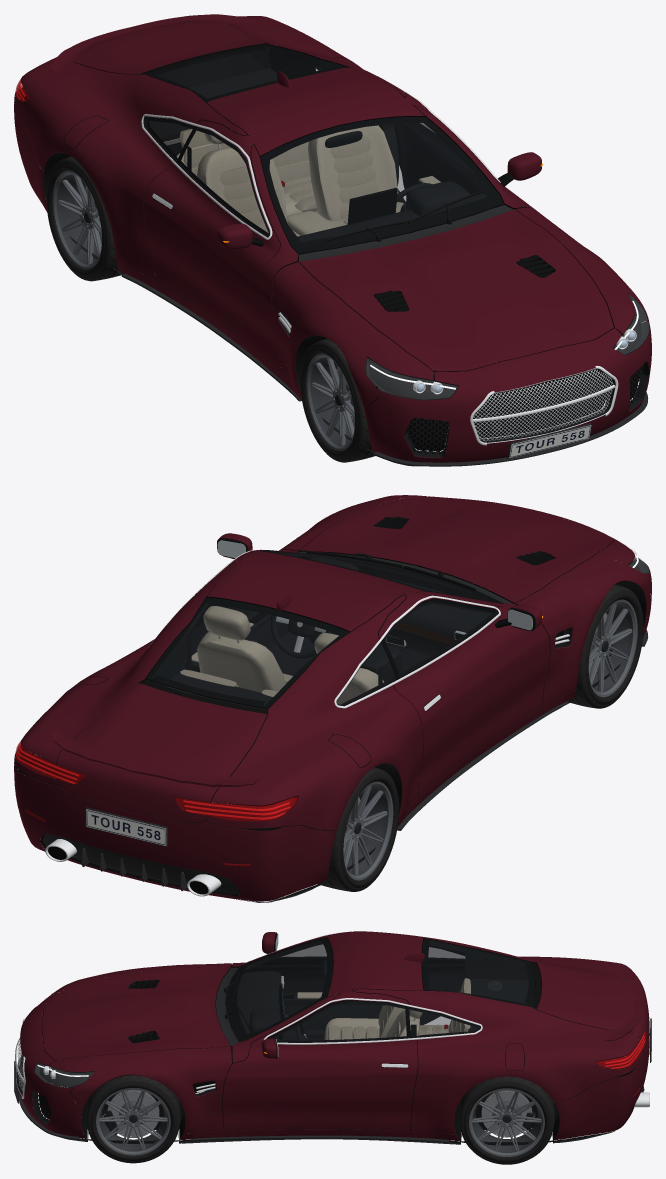
The model's file is grand-tourer.glb.
3 renders of one model, top to bottom at view 1: azimuth 30°, elevation 25°; view 2: azimuth 150°, elevation 25°; view 3: azimuth 270°, elevation 25°, orthographic. The views are drawn at different scales.
Visible parts, largest first — view 1: Body, Wheel_RR, Wheel_FR; view 2: Body, Wheel_RR, Wheel_FR, Steering_Wheel; view 3: Body, Wheel_RL, Wheel_FL.
Part boxes in pixels (bbox=[...]): Body: bbox=[14, 14, 651, 466]; Wheel_RR: bbox=[46, 156, 124, 281]; Wheel_FR: bbox=[300, 338, 375, 462]; Body: bbox=[14, 495, 651, 902]; Wheel_RR: bbox=[318, 767, 398, 891]; Wheel_FR: bbox=[568, 584, 643, 708]; Steering_Wheel: bbox=[271, 615, 331, 658]; Body: bbox=[14, 931, 651, 1145]; Wheel_RL: bbox=[459, 1076, 554, 1164]; Wheel_FL: bbox=[86, 1075, 180, 1163].
Size of the model in its own units: 2.08 by 1.33 by 4.78.
Materials: 60 (14 with a texture image).
